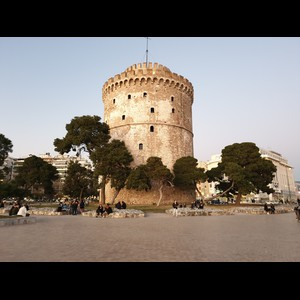White Tower: (100, 37, 201, 209)
